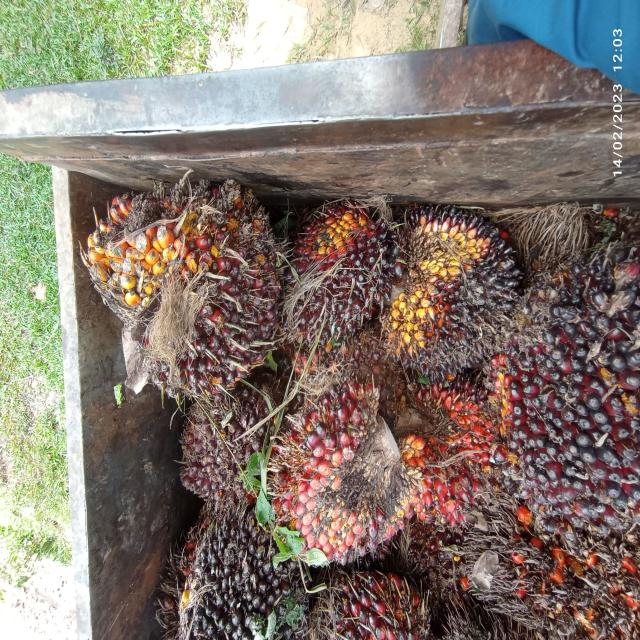fraksi 00: (378, 190, 524, 396), (153, 494, 315, 640), (273, 183, 404, 361)
fraksi 1: (80, 137, 286, 420), (492, 256, 640, 552), (241, 358, 427, 579)
fraksi 4: (395, 368, 515, 550)
